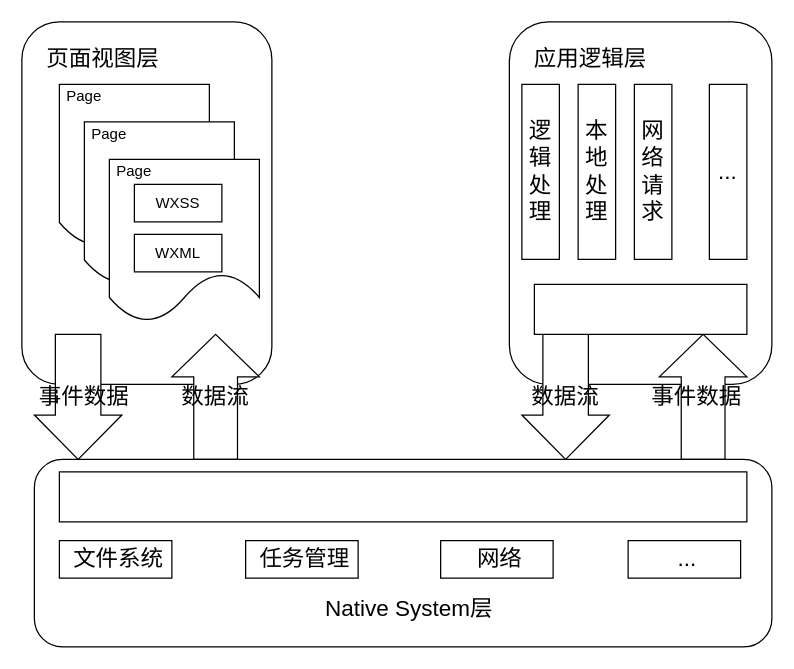
This 794x669 diagram has some shape labels left out. The shapes that lost their labels are listed below. From the top down, each one's box as (x1, y1, x2, y2) in pixels, then its label:
(533, 283, 747, 334): JS API
(58, 471, 747, 522): JS Bridge
